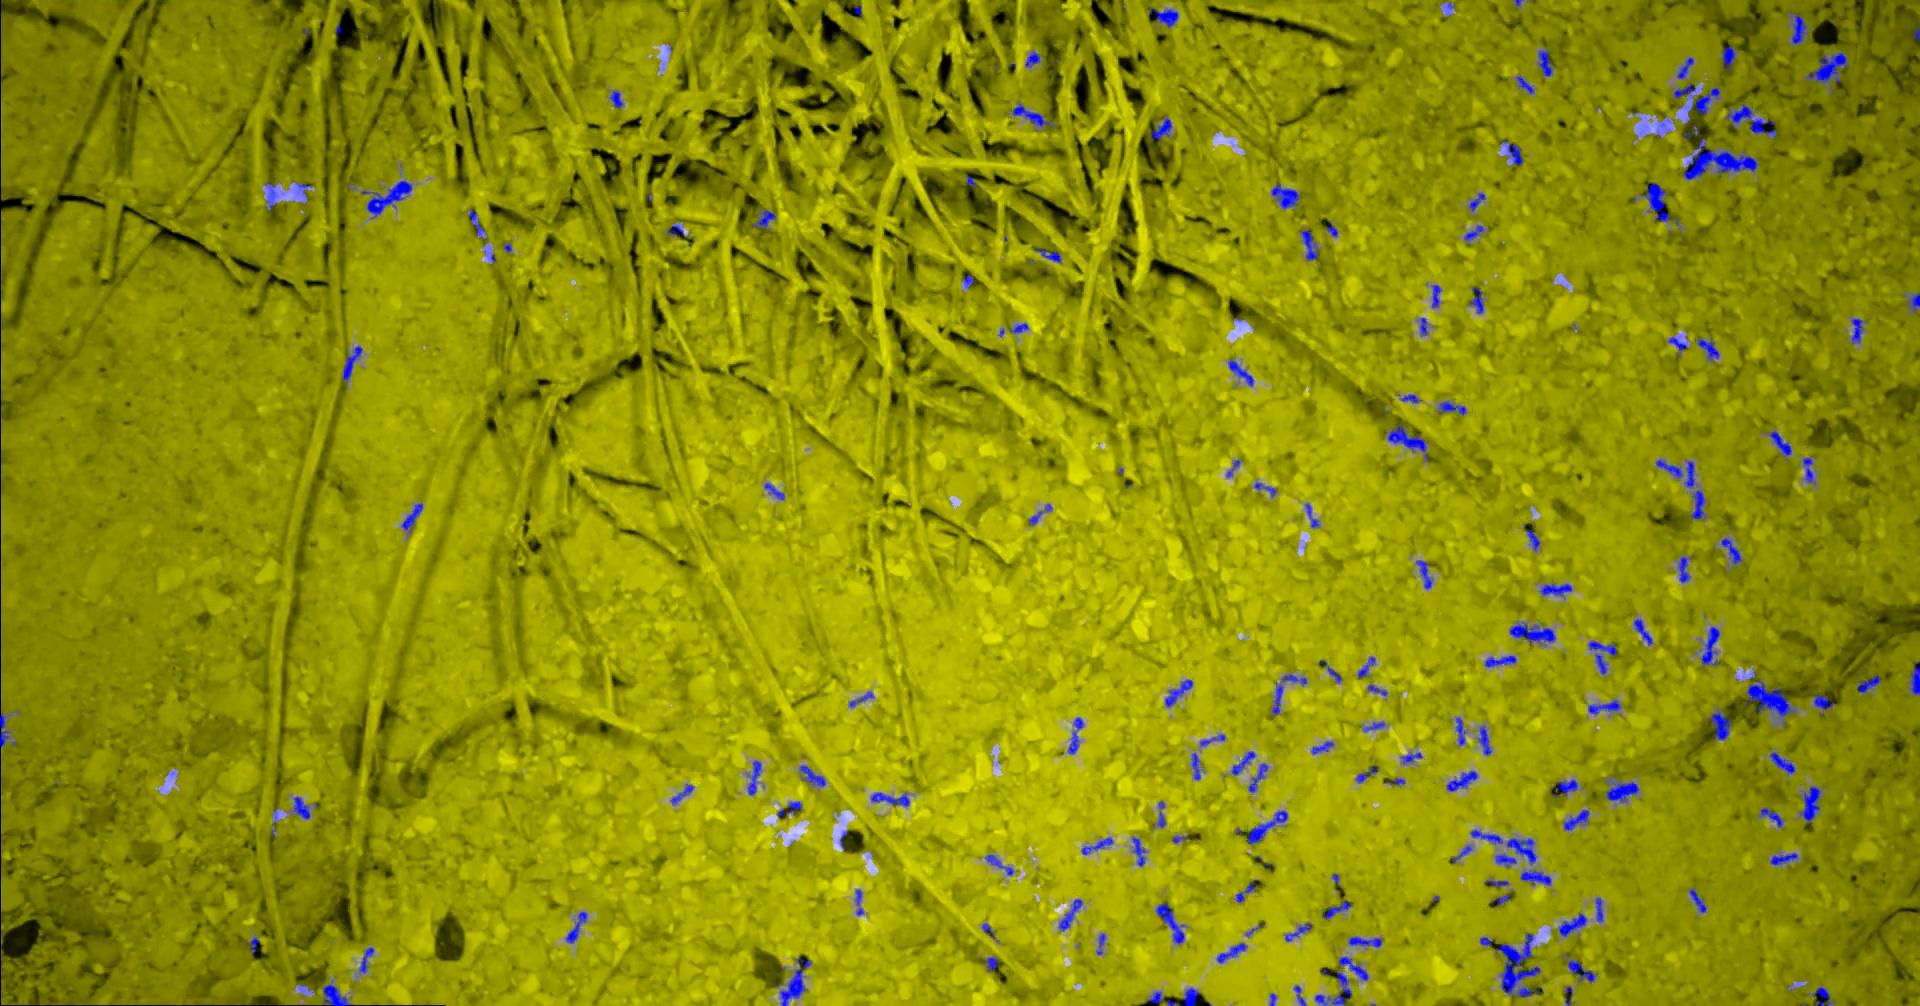ant: (1470, 829, 1535, 862), (361, 180, 411, 218), (1745, 678, 1796, 716), (1726, 103, 1777, 137), (778, 955, 811, 1005), (1639, 182, 1677, 224), (1387, 424, 1427, 460), (1804, 51, 1848, 84), (1246, 810, 1288, 843), (1271, 674, 1305, 714), (1685, 86, 1719, 123), (1314, 970, 1351, 1005), (1655, 459, 1695, 488), (1156, 902, 1183, 942), (1509, 622, 1556, 644), (1587, 640, 1617, 674), (1011, 103, 1051, 127), (1270, 180, 1299, 208), (1799, 785, 1820, 823), (1058, 898, 1082, 930), (1700, 626, 1719, 666), (342, 345, 362, 382), (1164, 680, 1192, 706), (1227, 359, 1253, 386), (1338, 956, 1368, 981), (1605, 781, 1638, 801), (1446, 770, 1477, 791), (565, 911, 585, 942), (1558, 913, 1586, 936), (1709, 711, 1731, 741), (1567, 959, 1596, 981), (323, 983, 352, 1005), (1148, 6, 1178, 27), (1719, 537, 1742, 564), (1166, 987, 1200, 1005), (400, 503, 422, 531), (985, 854, 1013, 875), (1247, 763, 1267, 793), (1230, 749, 1255, 774), (1769, 751, 1794, 774), (799, 765, 825, 786), (1300, 229, 1318, 260), (1217, 942, 1246, 962), (1768, 431, 1790, 455), (1318, 659, 1341, 683), (870, 793, 909, 807), (1415, 559, 1432, 589), (1081, 837, 1112, 854), (1697, 337, 1719, 359), (1563, 809, 1589, 829), (1633, 619, 1652, 645), (1284, 922, 1310, 941), (1790, 14, 1807, 44), (1587, 699, 1620, 714), (747, 760, 761, 795), (1549, 779, 1577, 796), (1029, 503, 1051, 525), (670, 782, 693, 804), (1759, 807, 1783, 827), (1519, 870, 1550, 885), (1323, 901, 1350, 918), (1150, 117, 1171, 140), (1537, 50, 1553, 76), (467, 210, 484, 236), (1523, 523, 1539, 550), (1857, 674, 1879, 694), (291, 796, 310, 819), (750, 210, 775, 227), (1688, 888, 1705, 912), (1034, 246, 1062, 262), (1690, 489, 1704, 520), (1131, 836, 1145, 866), (1538, 583, 1571, 596), (1811, 986, 1832, 1005), (1477, 725, 1491, 754), (1463, 225, 1488, 240), (1667, 337, 1686, 357), (1236, 882, 1255, 902), (358, 948, 373, 973), (1357, 655, 1375, 677), (1355, 765, 1377, 782), (1672, 83, 1695, 99), (1349, 936, 1382, 948), (1721, 44, 1735, 71), (1469, 286, 1483, 312), (1439, 400, 1465, 414), (848, 691, 872, 706), (777, 801, 801, 817), (1515, 75, 1534, 94), (1484, 655, 1516, 667), (1451, 843, 1470, 862), (1304, 502, 1318, 527), (1769, 852, 1797, 865), (1909, 661, 1919, 695), (764, 481, 783, 499), (1676, 57, 1693, 77), (1802, 457, 1815, 483), (1677, 556, 1690, 582), (264, 182, 276, 210), (1507, 144, 1523, 164), (0, 713, 9, 747), (1199, 734, 1225, 746), (1153, 800, 1164, 827), (1255, 481, 1276, 495), (1495, 854, 1516, 868), (1455, 716, 1465, 746), (1469, 192, 1484, 211), (1851, 318, 1863, 343), (1813, 694, 1832, 709), (1310, 741, 1333, 753), (1143, 991, 1163, 1005), (1190, 752, 1200, 779), (1067, 730, 1078, 753), (1293, 984, 1305, 1005), (610, 90, 623, 108), (1401, 752, 1421, 763), (1025, 51, 1039, 67), (855, 889, 863, 915), (1683, 124, 1698, 138), (245, 936, 258, 953), (1095, 934, 1105, 954), (1431, 285, 1440, 307), (1491, 893, 1509, 904), (984, 956, 998, 970), (1909, 292, 1919, 311), (1010, 323, 1029, 333), (1595, 895, 1603, 921), (1363, 721, 1384, 730), (667, 224, 683, 235), (1484, 879, 1509, 887), (1418, 318, 1427, 335), (1399, 394, 1420, 401), (963, 274, 974, 287)
